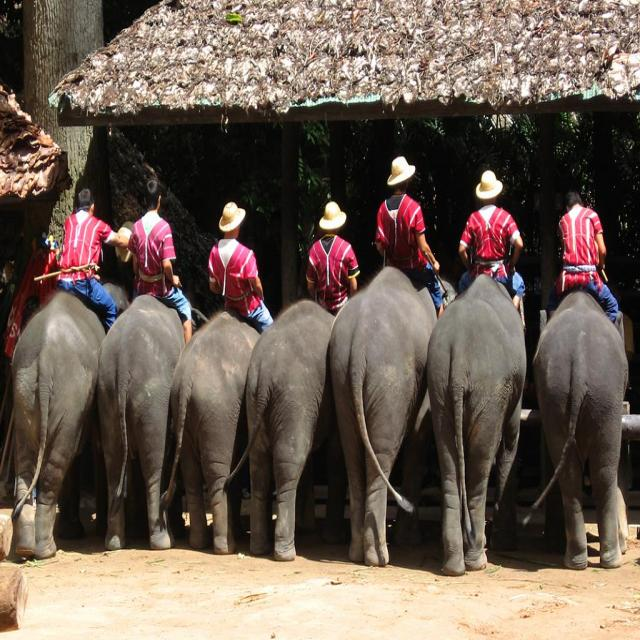elephant: (426, 255, 540, 568), (8, 280, 126, 555), (223, 297, 338, 567), (331, 276, 436, 560), (539, 289, 631, 572), (97, 296, 192, 548), (165, 308, 259, 546)
